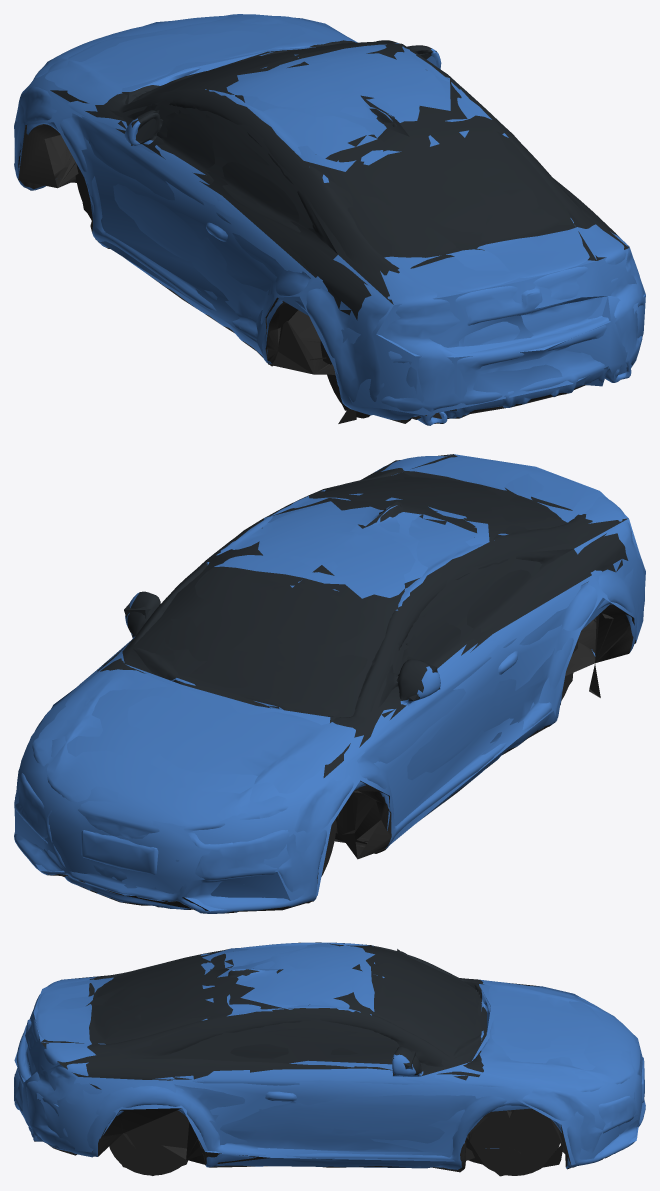
Rendered from audi-tts.glb.
3 views of the same model, one above another, from view 1: azimuth 30°, elevation 25°; view 2: azimuth 150°, elevation 25°; view 3: azimuth 270°, elevation 25° (orthographic). The views are drawn at different scales.
Visible parts, largest first — view 1: body, far; view 2: body, far; view 3: body, far.
Part boxes in pixels (x1,y1,x2,y2): body: (14, 14, 644, 425); far: (14, 14, 645, 423); body: (14, 456, 645, 913); far: (14, 454, 645, 911); body: (14, 942, 645, 1175); far: (14, 943, 645, 1176).
Size of the model in its own units: 1.77 by 1.27 by 4.22.
